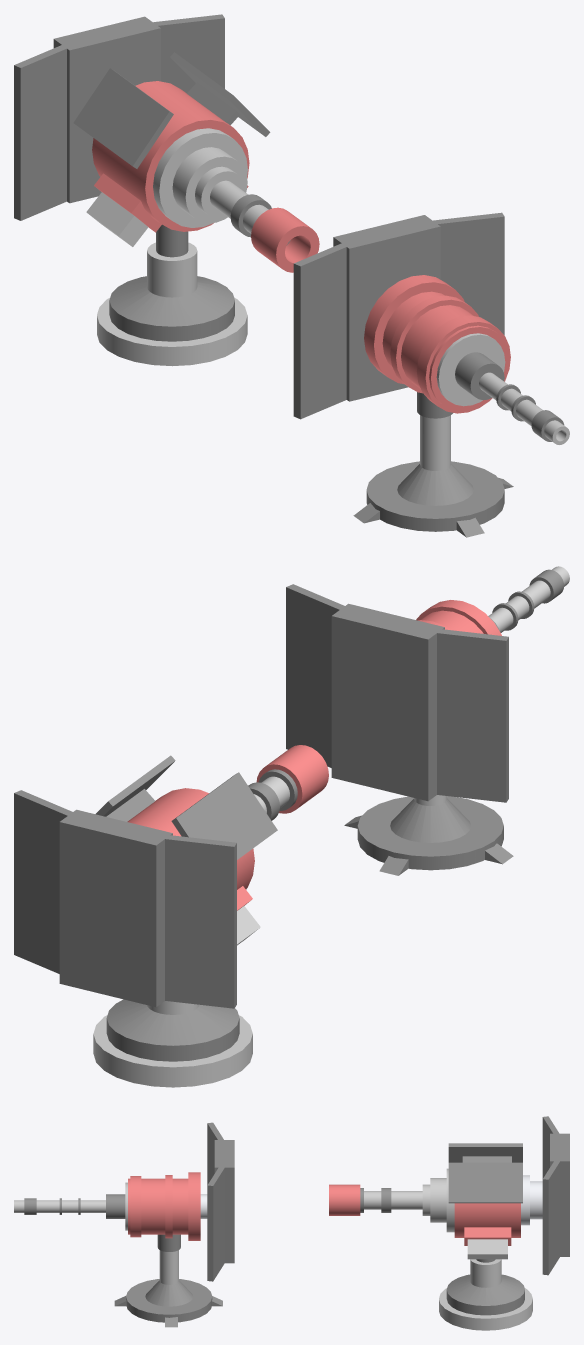
Rendered from Sub - Torret Fire Set 1.fbx.
3 renders of one model, top to bottom at view 1: azimuth 30°, elevation 25°; view 2: azimuth 150°, elevation 25°; view 3: azimuth 270°, elevation 25°, orthographic. The views are drawn at different scales.
Visible parts, largest first — view 1: mergedBlocks2.046, mergedBlocks.116, mergedBlocks2.085, mergedBlocks.060; view 2: mergedBlocks2.046, mergedBlocks.116, mergedBlocks2.085, mergedBlocks.060; view 3: mergedBlocks2.046, mergedBlocks.116, mergedBlocks2.085, mergedBlocks.060.
Boxes of the visible parts, x1,y1,x2,y2 form: mergedBlocks2.046: [14, 14, 319, 272]; mergedBlocks.116: [293, 212, 569, 444]; mergedBlocks2.085: [97, 224, 247, 366]; mergedBlocks.060: [353, 392, 513, 537]; mergedBlocks2.046: [14, 745, 328, 1008]; mergedBlocks.116: [286, 566, 569, 802]; mergedBlocks2.085: [93, 999, 252, 1087]; mergedBlocks.060: [344, 795, 513, 875]; mergedBlocks2.046: [329, 1116, 569, 1275]; mergedBlocks.116: [14, 1122, 234, 1281]; mergedBlocks2.085: [439, 1259, 532, 1330]; mergedBlocks.060: [114, 1234, 222, 1327].
Bounding box in the file's own units: 362 × 408 × 1272.
